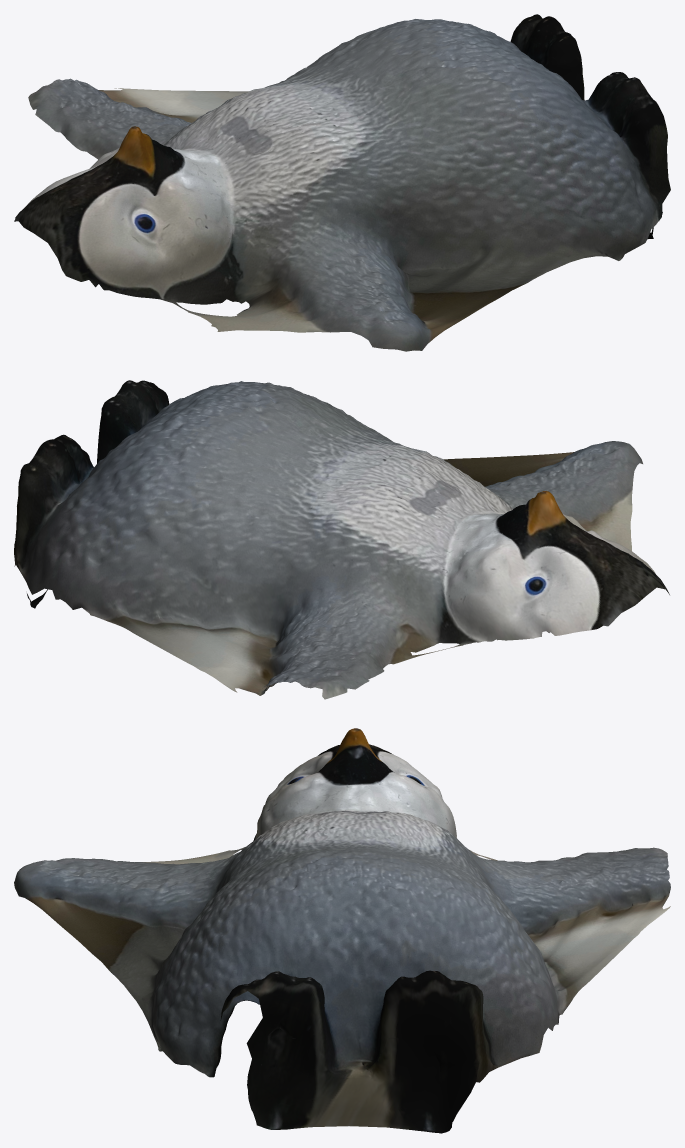
File: penguin_cdeb8f7d.glb
3 renders of one model, top to bottom at view 1: azimuth 30°, elevation 25°; view 2: azimuth 150°, elevation 25°; view 3: azimuth 270°, elevation 25°, orthographic. The views are drawn at different scales.
Parts seen in each view (by area): view 1: g0; view 2: g0; view 3: g0.
Boxes of the visible parts, left/top/right/bottom form: g0: left=14, top=14, right=670, bottom=351; g0: left=14, top=380, right=669, bottom=699; g0: left=14, top=728, right=670, bottom=1133.
Size of the model in its own units: 0.5827 by 0.2014 by 0.6073.
Materials: 1 (1 with a texture image).
